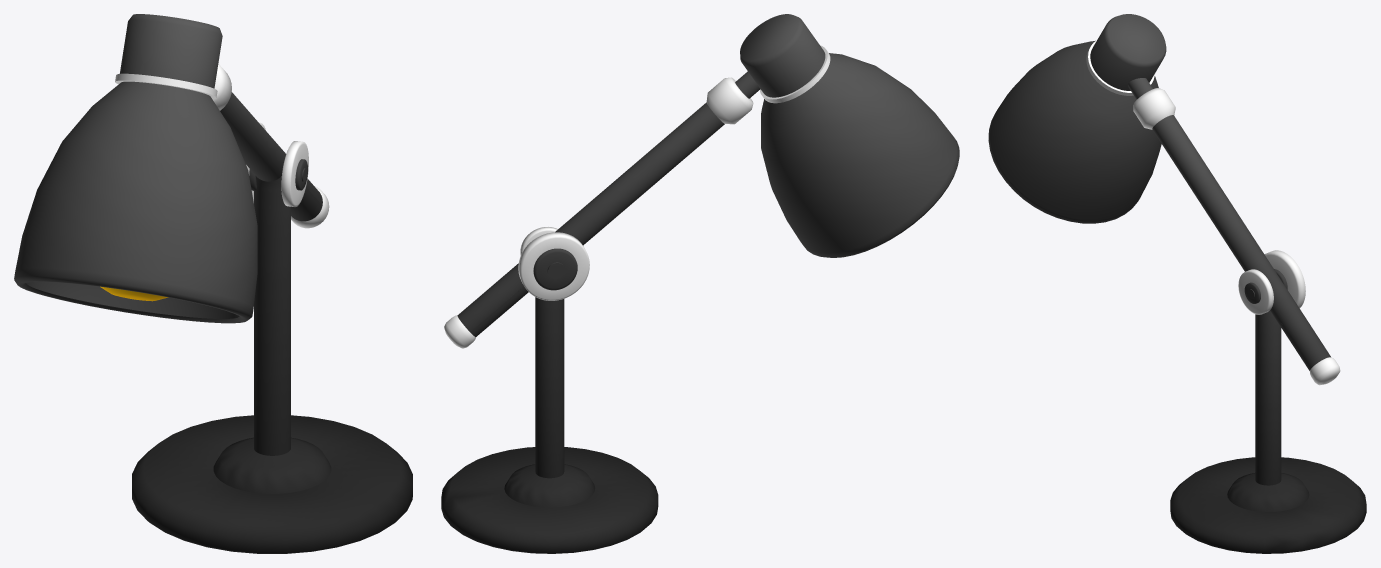
File: SM_Flexo.fbx
The picture shows the model from 3 angles, left to right: view 1: azimuth 30°, elevation 25°; view 2: azimuth 150°, elevation 25°; view 3: azimuth 270°, elevation 25°; orthographic projection. The views are drawn at different scales.
Parts seen in each view (by area): view 1: Flexo; view 2: Flexo; view 3: Flexo.
Boxes of the visible parts, x1=… form: Flexo: x1=14, y1=14, x2=412, y2=553; Flexo: x1=441, y1=14, x2=959, y2=553; Flexo: x1=988, y1=14, x2=1366, y2=553.
Bounding box in the file's own units: 68.05 × 79 × 63.69.
